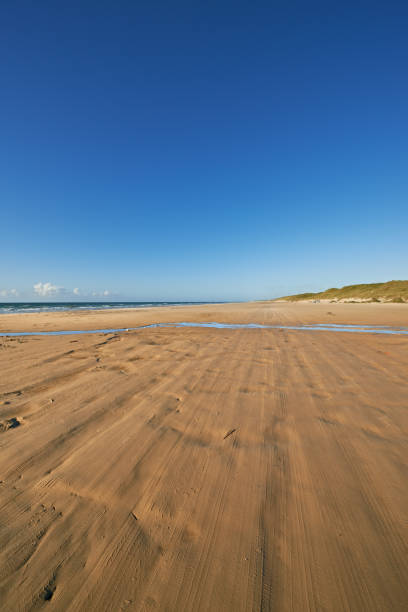vehicle_track: (82, 328, 226, 592), (211, 317, 325, 596)
